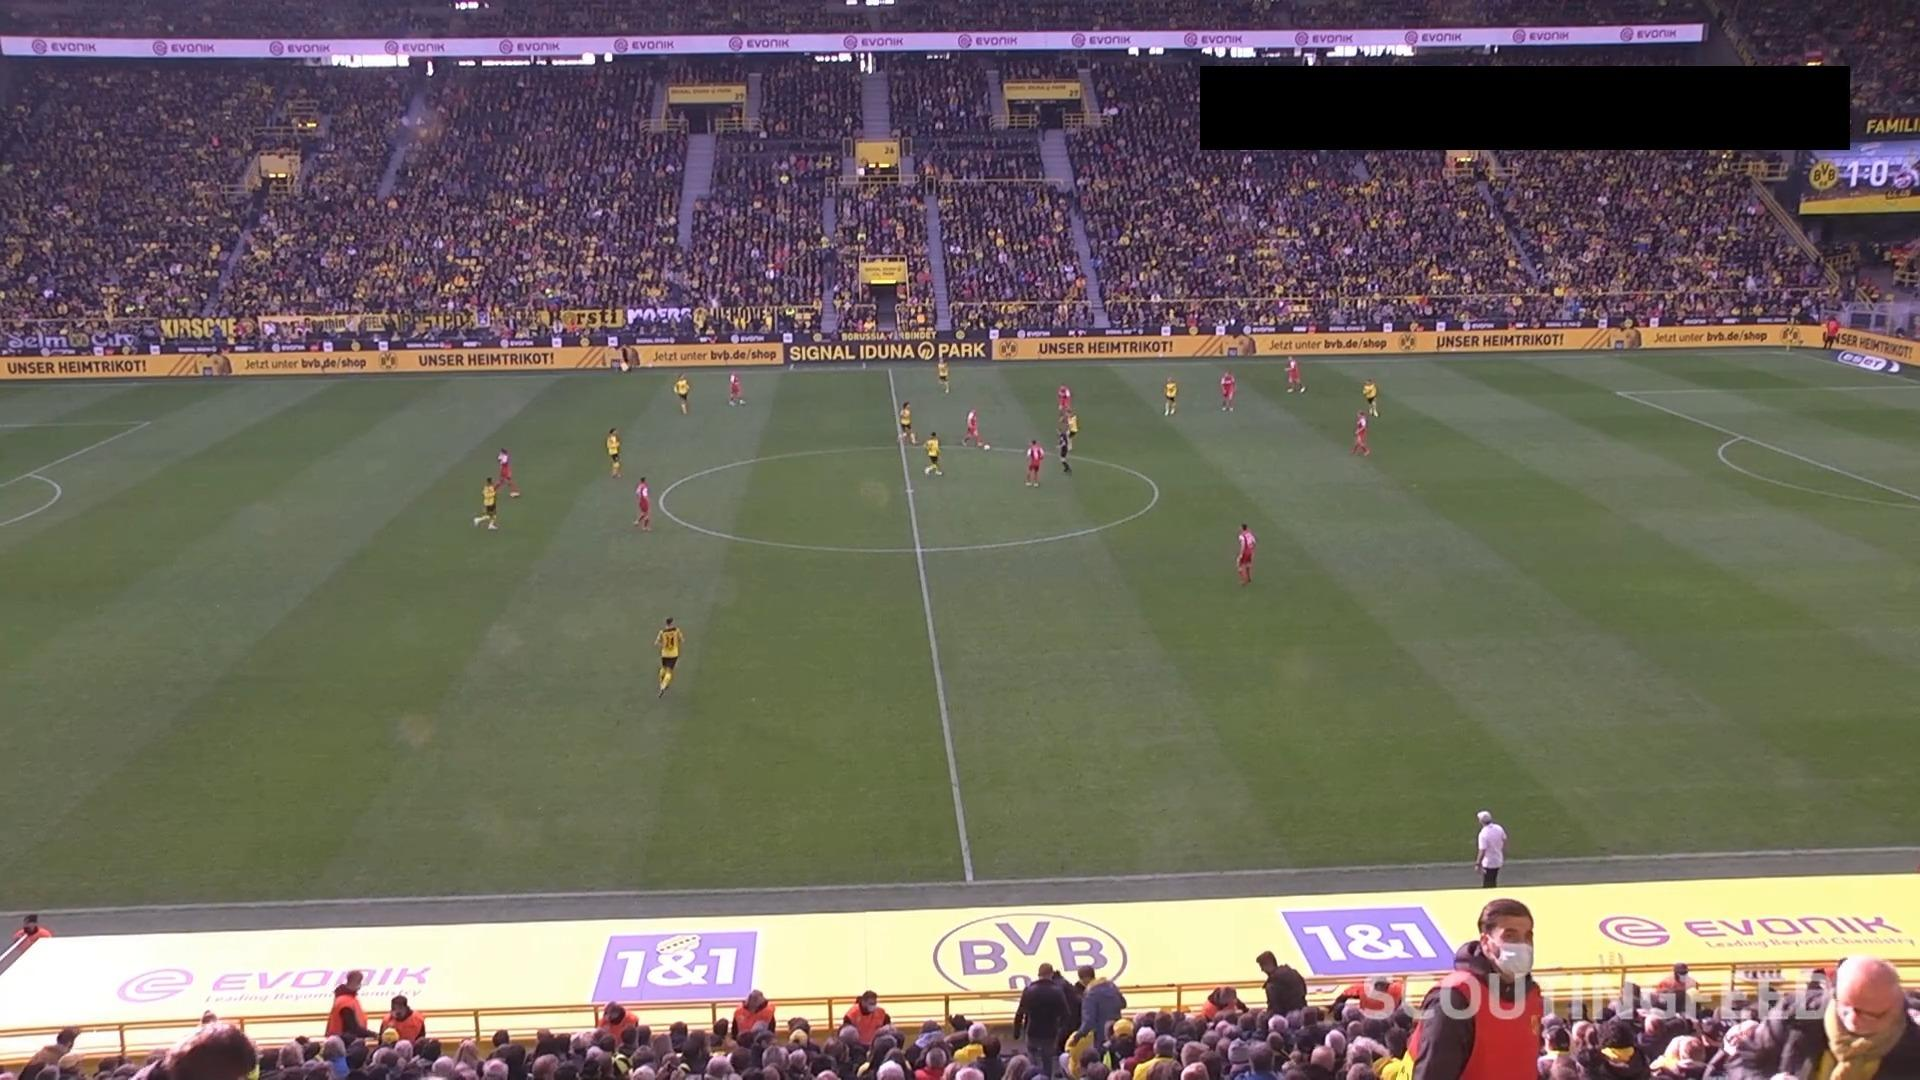ball: (984, 443, 990, 452)
coach: (1474, 809, 1507, 888)
fan: (1702, 955, 1918, 1078), (1407, 898, 1544, 1077), (1011, 961, 1074, 1077), (1255, 949, 1307, 1016)
player: (652, 616, 683, 698), (472, 476, 499, 530), (1234, 522, 1256, 585), (494, 447, 520, 498), (961, 407, 989, 450), (632, 476, 652, 530), (1023, 438, 1044, 486), (922, 430, 942, 476), (605, 427, 622, 478), (1351, 408, 1369, 456), (897, 400, 916, 445), (1283, 355, 1305, 393), (1218, 369, 1235, 411), (673, 373, 690, 414), (1361, 378, 1378, 417), (1162, 376, 1177, 416), (727, 372, 744, 405), (1056, 382, 1072, 417), (936, 357, 950, 394), (1066, 410, 1080, 440)
referee: (1055, 412, 1077, 471), (1820, 315, 1840, 349), (617, 345, 631, 373)
